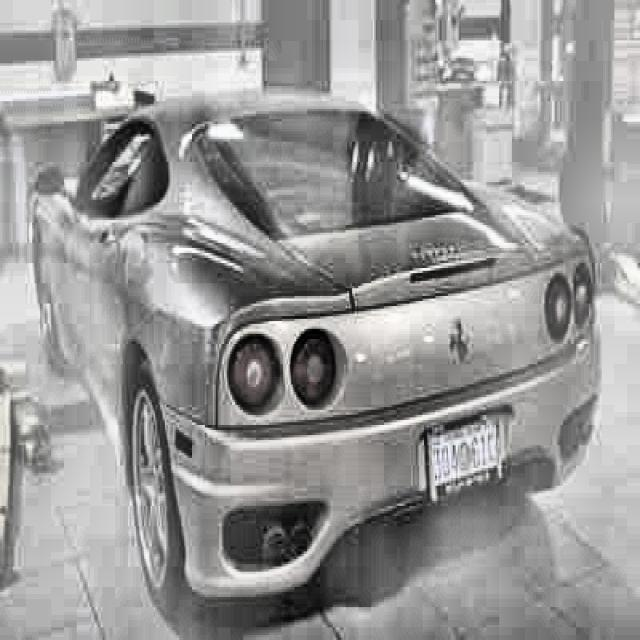license_plate: (422, 418, 508, 499)
